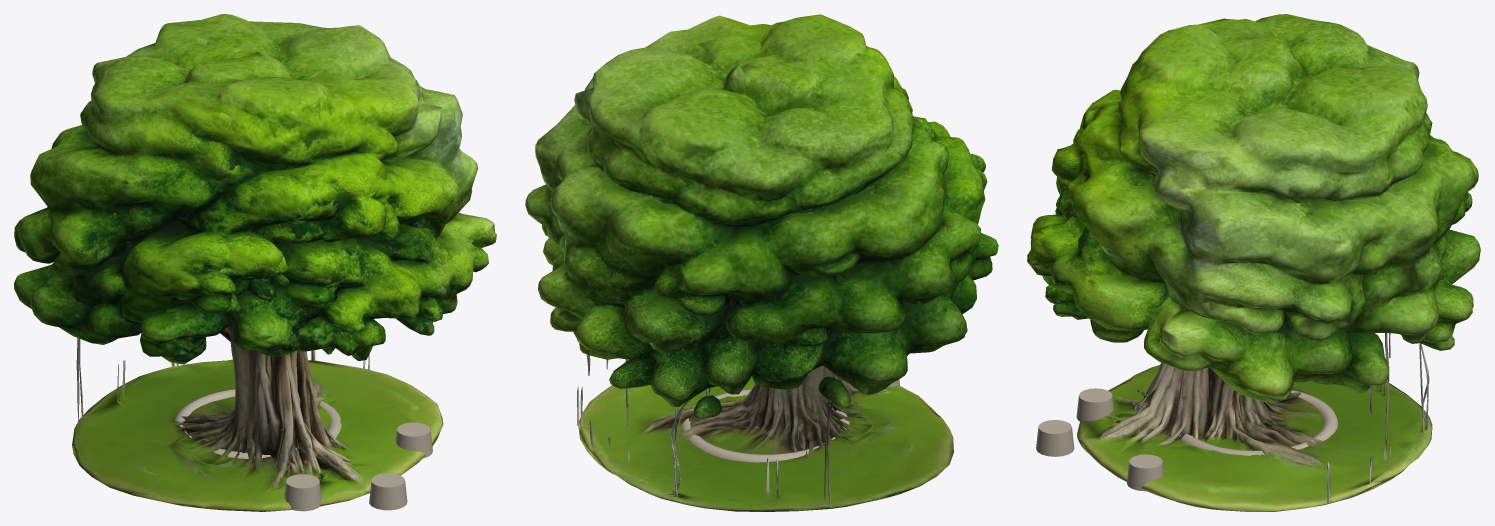
Rendered from tree.glb.
The picture shows the model from 3 angles, left to right: view 1: azimuth 30°, elevation 25°; view 2: azimuth 150°, elevation 25°; view 3: azimuth 270°, elevation 25°; orthographic projection.
Visible parts, largest first — view 1: tripo_node_cd2d9362-2af5-49cf-8644-0aacb304f2fc, object 2; view 2: tripo_node_cd2d9362-2af5-49cf-8644-0aacb304f2fc, object 2; view 3: tripo_node_cd2d9362-2af5-49cf-8644-0aacb304f2fc, object 2.
Part boxes in pixels (x1,y1,x2,y2): tripo_node_cd2d9362-2af5-49cf-8644-0aacb304f2fc: (14, 14, 496, 511); object 2: (175, 389, 432, 511); tripo_node_cd2d9362-2af5-49cf-8644-0aacb304f2fc: (525, 14, 998, 511); object 2: (682, 379, 900, 462); tripo_node_cd2d9362-2af5-49cf-8644-0aacb304f2fc: (1027, 14, 1480, 511); object 2: (1036, 388, 1338, 491).
Size of the model in its own units: 0.36 by 0.3167 by 0.34.
Materials: 2 (1 with a texture image).
